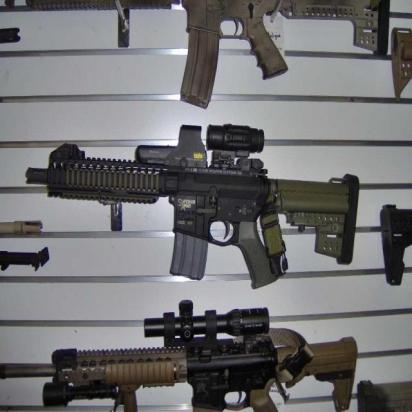Gun: (6, 127, 373, 301), (0, 296, 374, 412)
